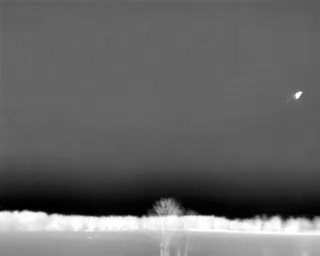BIRD: (292, 87, 306, 103)
